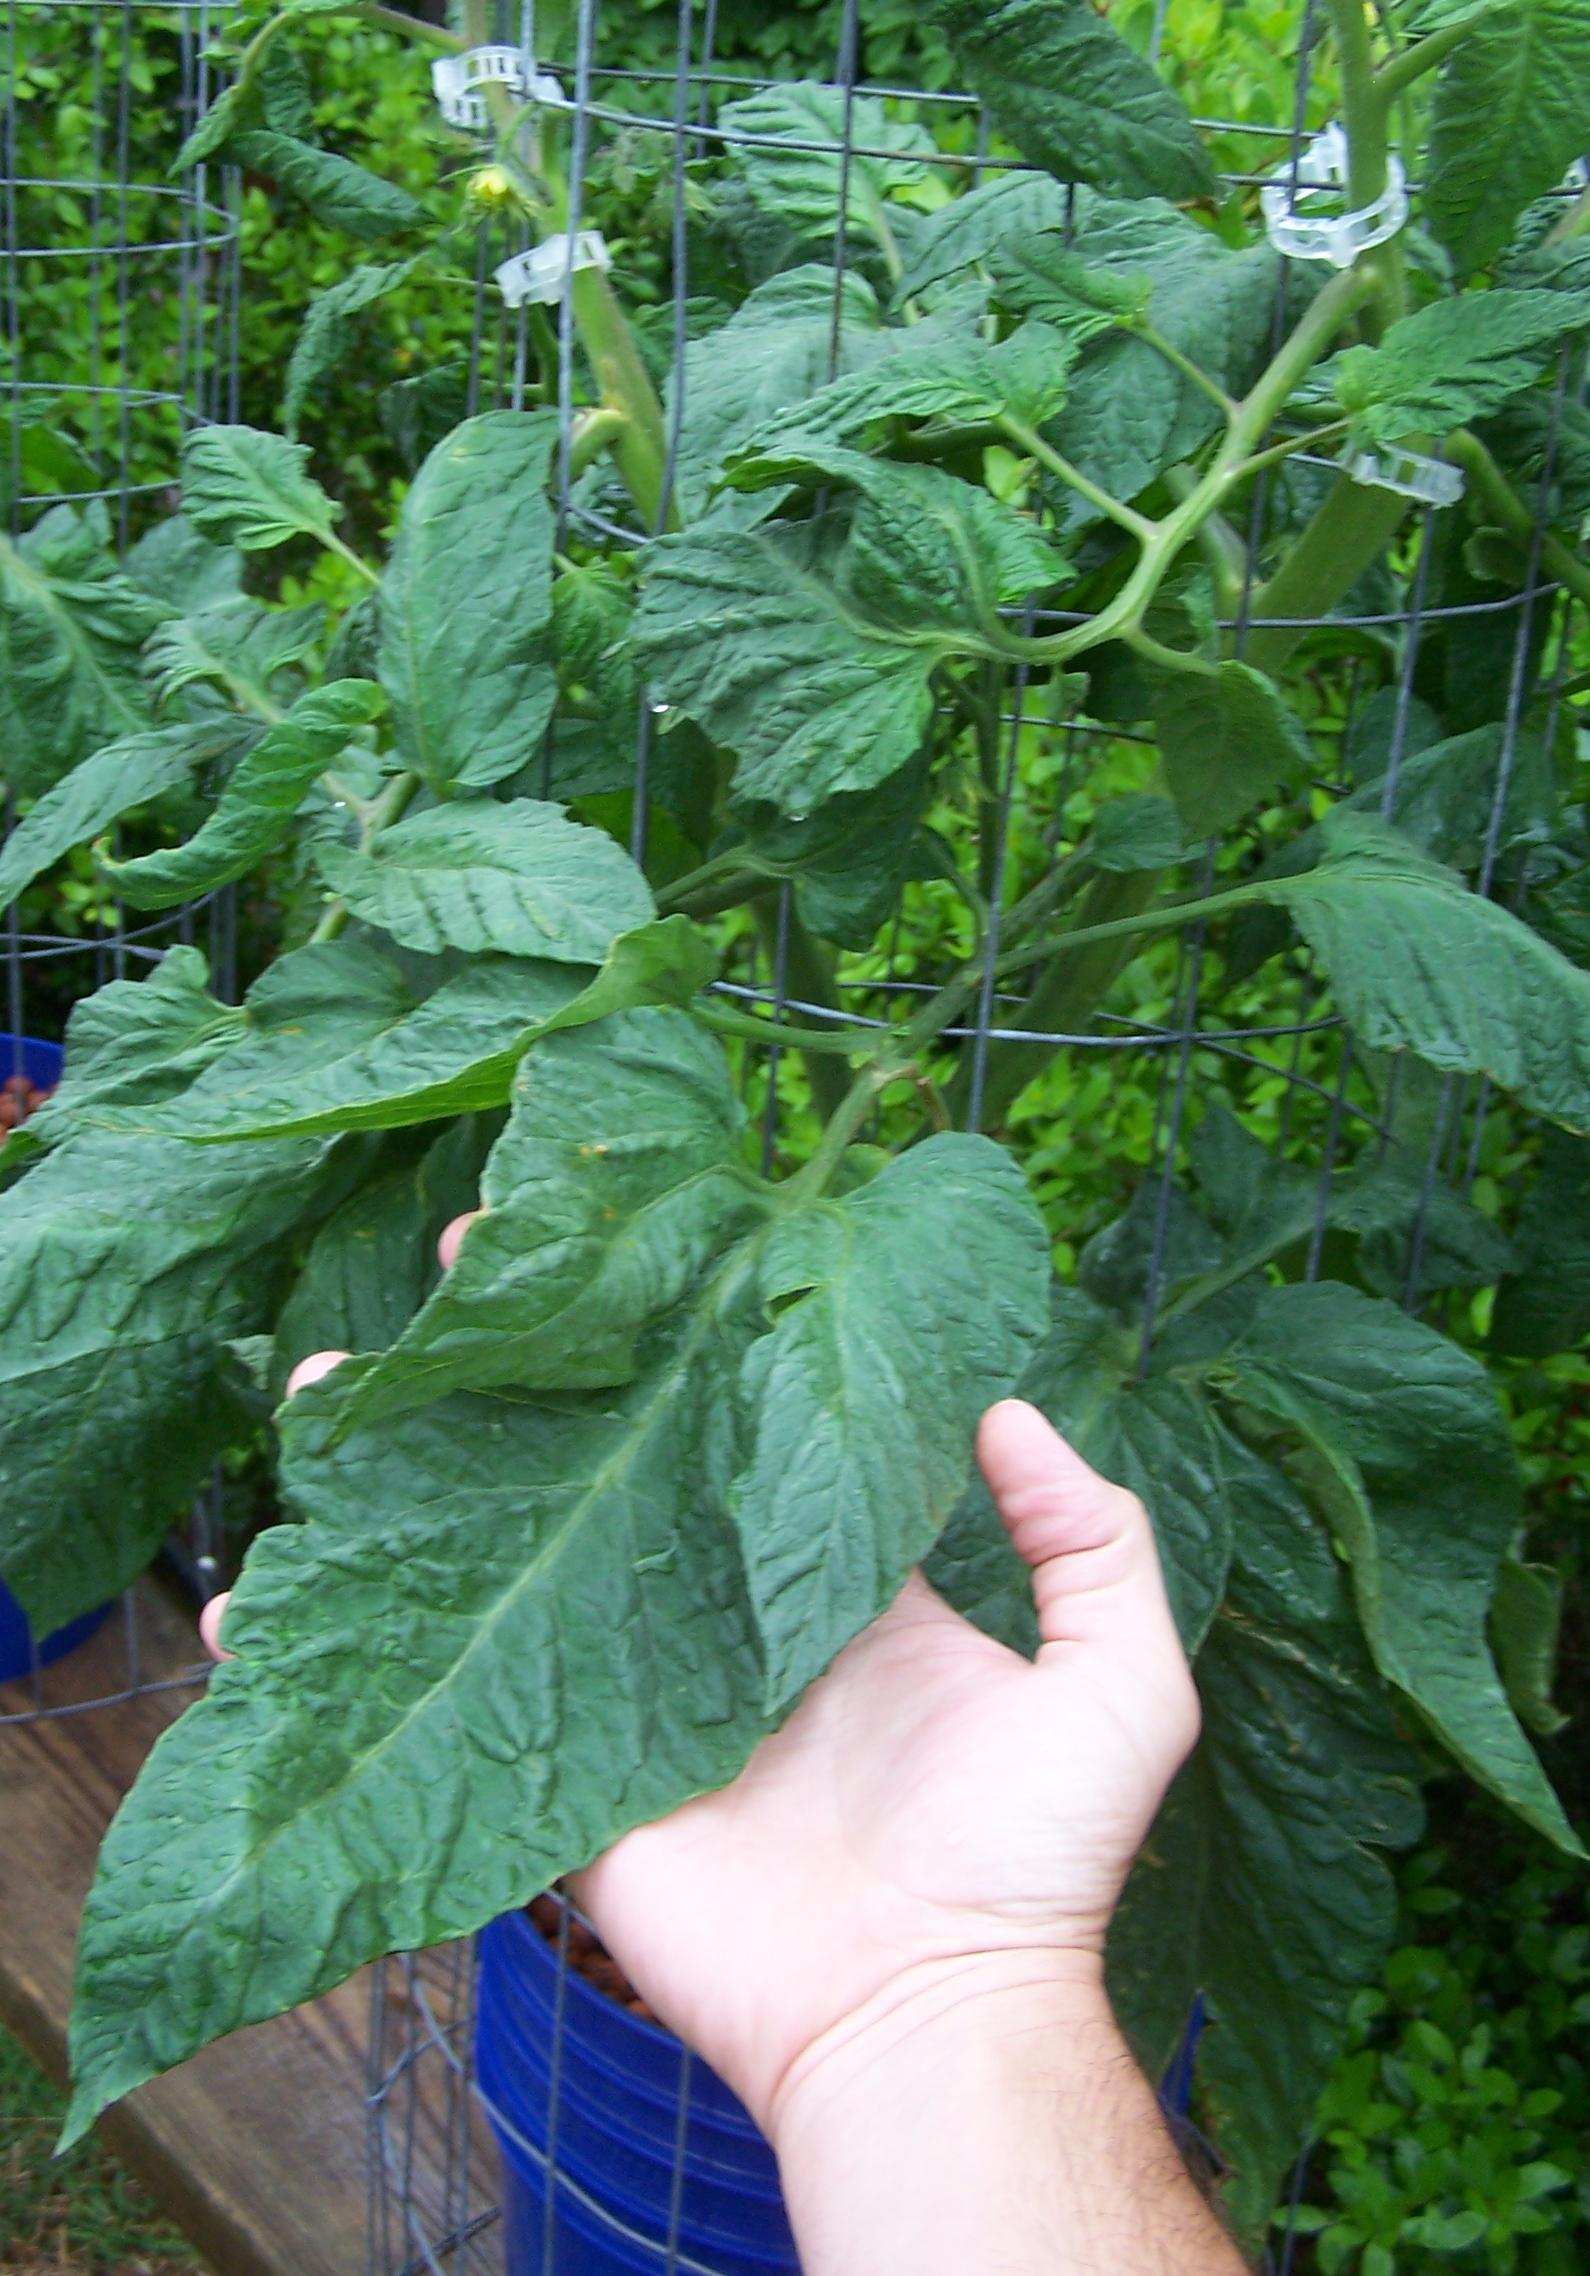Tomato leaf: (40, 1124, 1000, 2132), (0, 982, 500, 1416), (381, 417, 597, 835), (1308, 847, 1590, 1136), (647, 547, 958, 785), (320, 820, 697, 993), (1327, 244, 1590, 465), (159, 412, 351, 552)
